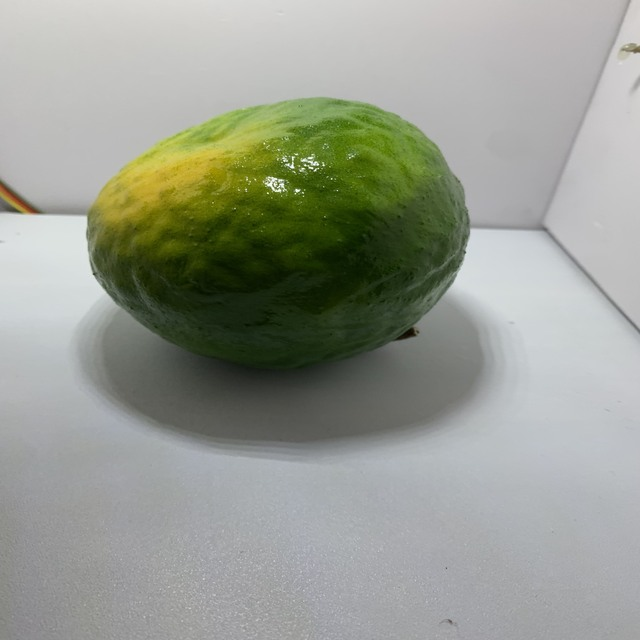Cam xanh: (78, 93, 473, 375)
